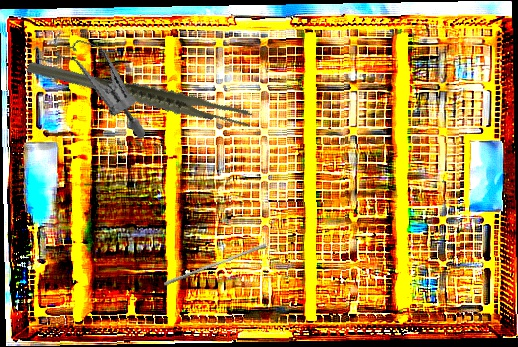Pusher: (162, 239, 268, 291)
Speculum: (16, 23, 168, 142)
Tissue Forceps: (25, 21, 256, 165)
